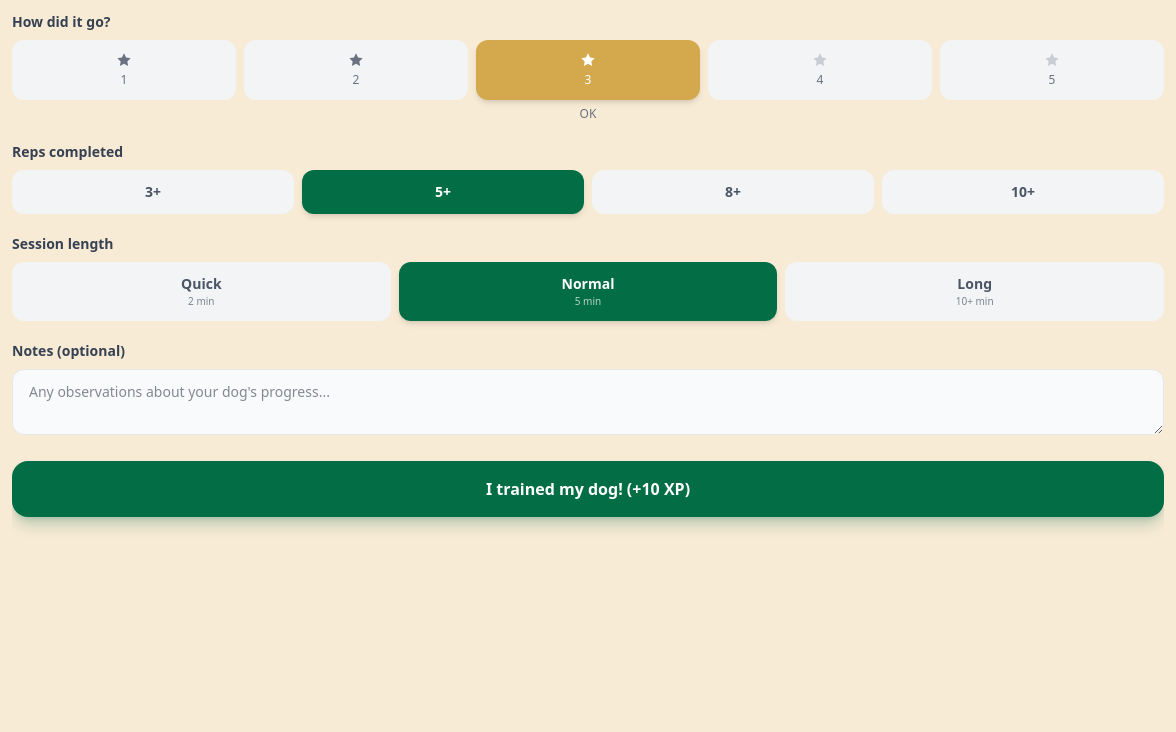
Test case: SessionLogForm › renders a validation/error message returned by the server action and does not navigate
The width and height of the screenshot is (1176, 732).
Click the button "I trained my dog! (+10 XP)": (588, 489) [12, 461, 1164, 517]
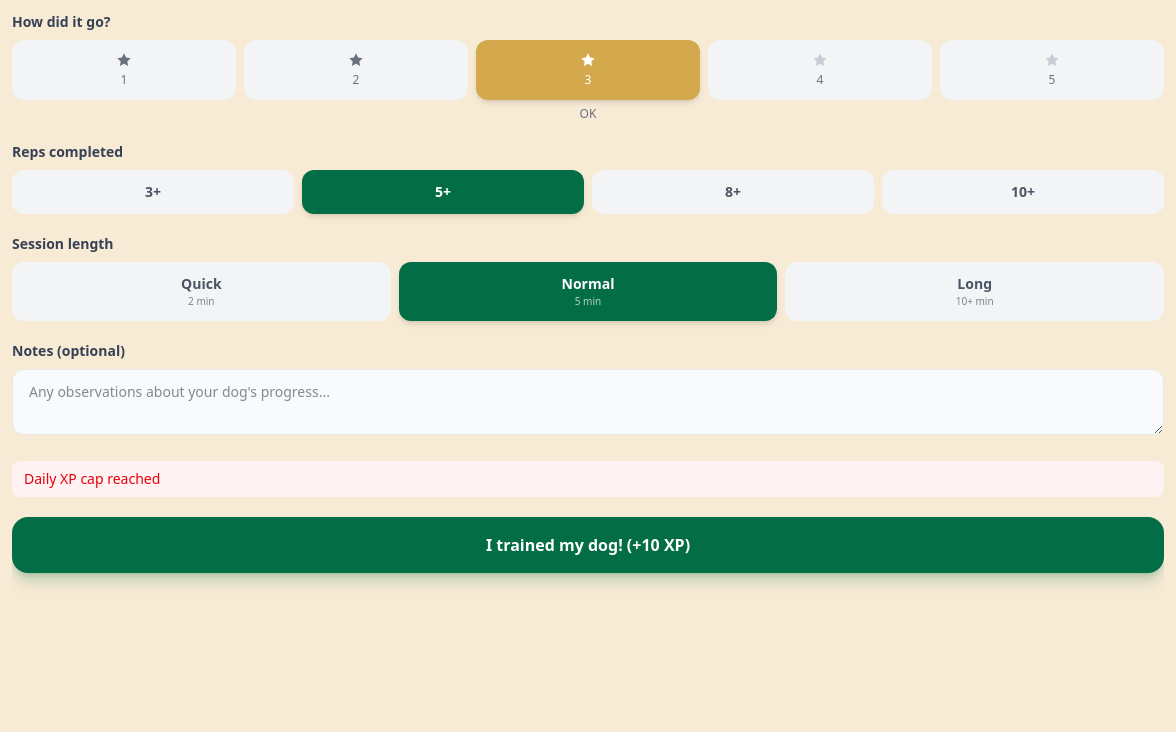
Check: the text "Daily XP cap reached" is shown, box [12, 461, 1164, 497]
